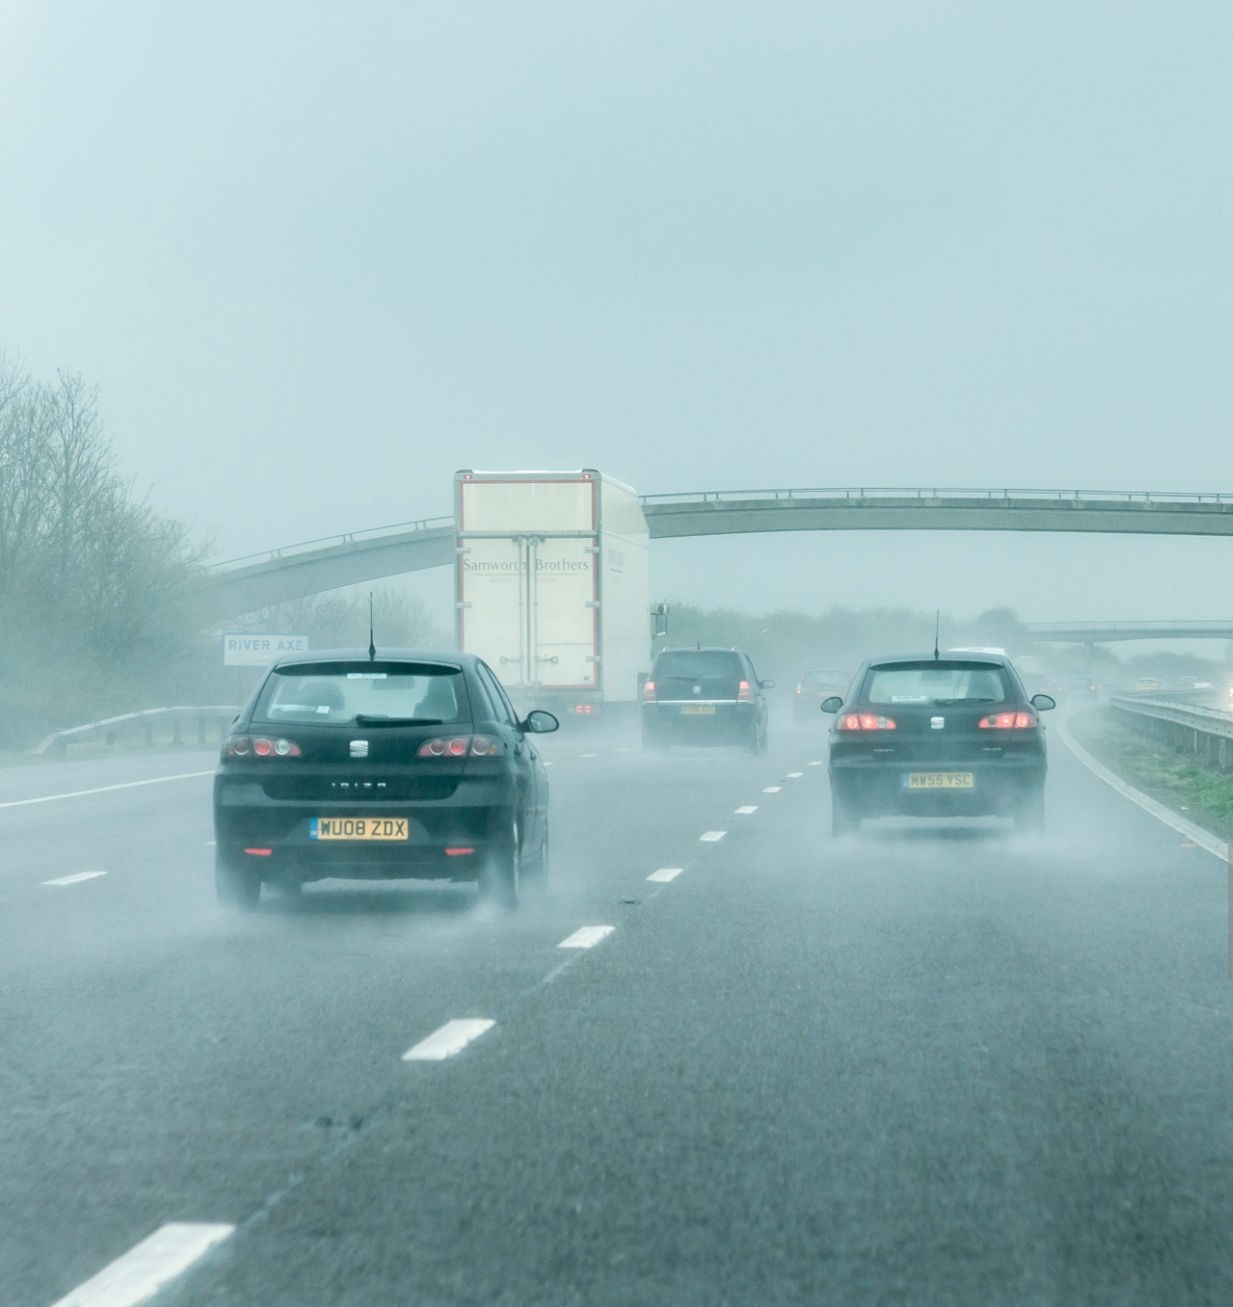car: (212, 648, 541, 922), (824, 647, 1049, 846), (645, 642, 771, 752), (790, 666, 859, 720)
truck: (454, 468, 657, 714)
